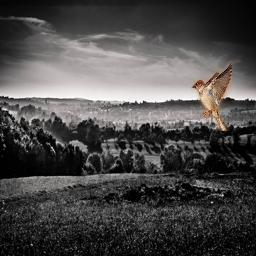Sparrow: (192, 61, 233, 131)
